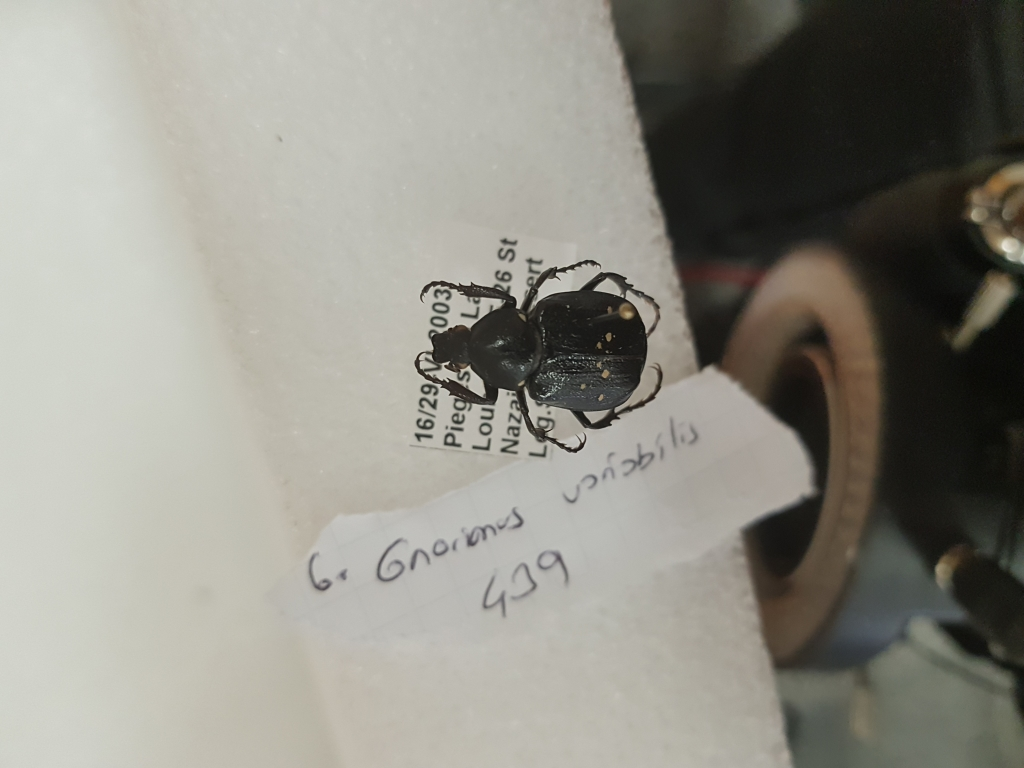Gnorimus_variabilis: (408, 254, 668, 457)
